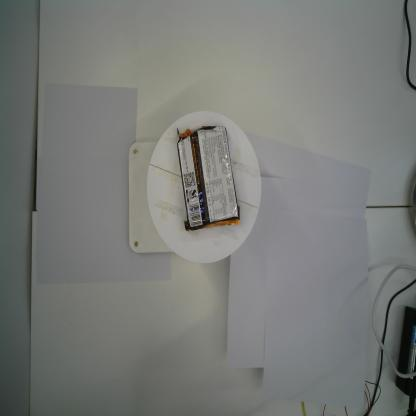Dessert: (177, 126, 241, 235)
